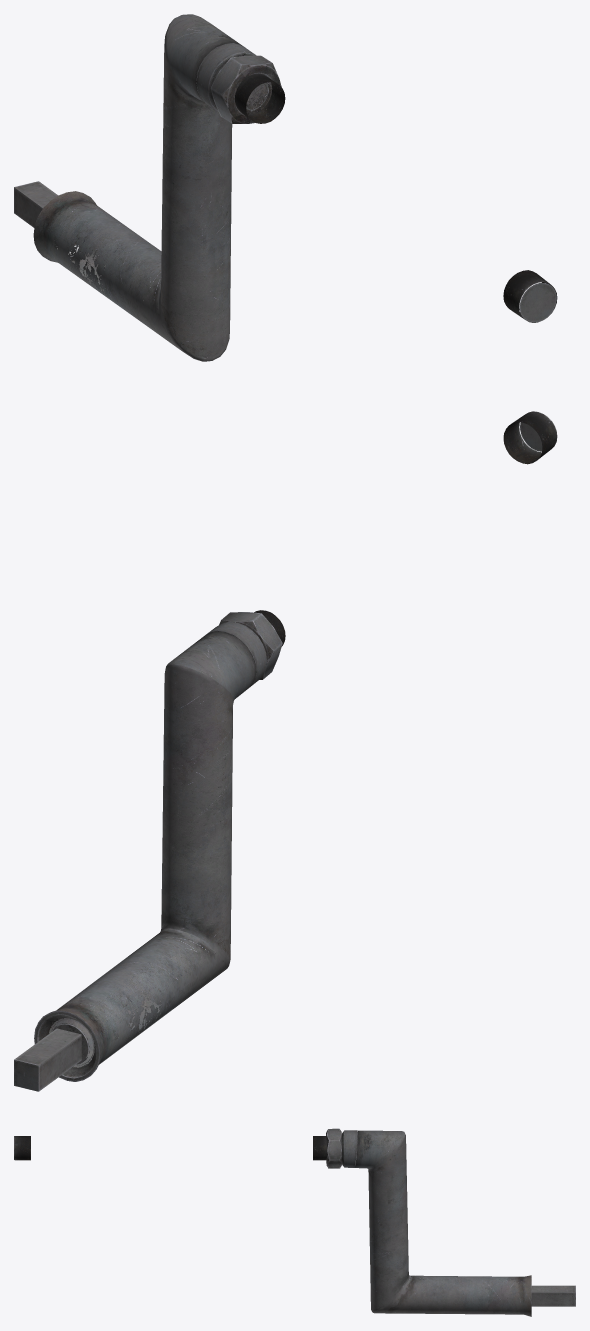
Rendered from 101_Red_Squarecrank.fbx.
The picture shows the model from 3 angles, top to bottom: view 1: azimuth 30°, elevation 25°; view 2: azimuth 150°, elevation 25°; view 3: azimuth 270°, elevation 25°; orthographic projection. The views are drawn at different scales.
Parts seen in each view (by area): view 1: LOD_1_Group_1_Sub_1__sm73_101_SquareCrank01A_A_Mat, LOD_1_Group_2_Sub_1__sm73_101_SquareCrank01A_A_Mat; view 2: LOD_1_Group_1_Sub_1__sm73_101_SquareCrank01A_A_Mat, LOD_1_Group_2_Sub_1__sm73_101_SquareCrank01A_A_Mat; view 3: LOD_1_Group_1_Sub_1__sm73_101_SquareCrank01A_A_Mat, LOD_1_Group_2_Sub_1__sm73_101_SquareCrank01A_A_Mat.
Part boxes in pixels (x1,y1,x2,y2): LOD_1_Group_1_Sub_1__sm73_101_SquareCrank01A_A_Mat: [14, 14, 256, 361]; LOD_1_Group_2_Sub_1__sm73_101_SquareCrank01A_A_Mat: [210, 55, 557, 322]; LOD_1_Group_1_Sub_1__sm73_101_SquareCrank01A_A_Mat: [14, 621, 266, 1091]; LOD_1_Group_2_Sub_1__sm73_101_SquareCrank01A_A_Mat: [219, 411, 557, 679]; LOD_1_Group_1_Sub_1__sm73_101_SquareCrank01A_A_Mat: [341, 1130, 575, 1316]; LOD_1_Group_2_Sub_1__sm73_101_SquareCrank01A_A_Mat: [14, 1128, 342, 1168].
Size of the model in its own units: 0.069 by 0.2598 by 0.6873.
